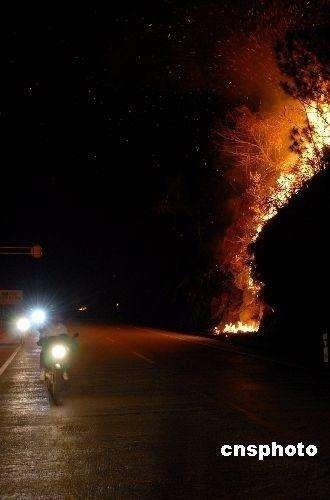fire: (224, 81, 330, 338)
